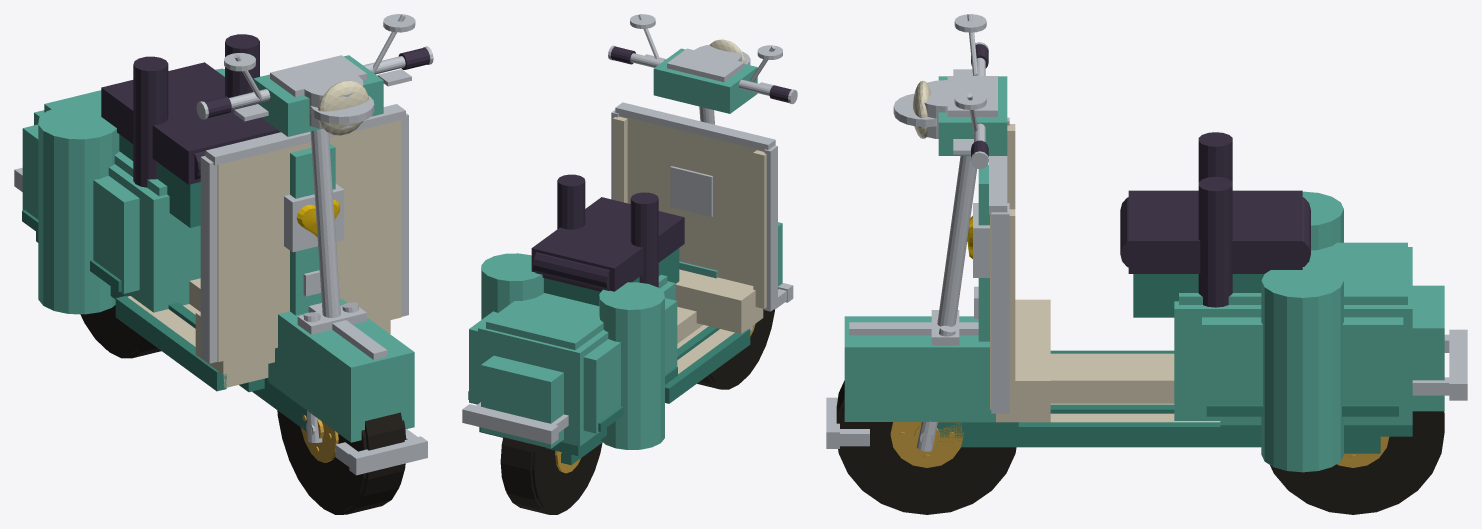
The model's file is veh_scooter.glb.
3 views of the same model, side by side, from view 1: azimuth 30°, elevation 25°; view 2: azimuth 150°, elevation 25°; view 3: azimuth 270°, elevation 25° (orthographic). The views are drawn at different scales.
Visible parts, largest first — view 1: veh_scooter; view 2: veh_scooter; view 3: veh_scooter.
Part boxes in pixels (<box>): veh_scooter: <box>14,14,433,514</box>; veh_scooter: <box>462,14,797,514</box>; veh_scooter: <box>826,14,1467,514</box>.
Size of the model in its own units: 1.03 by 1.96 by 2.52.
